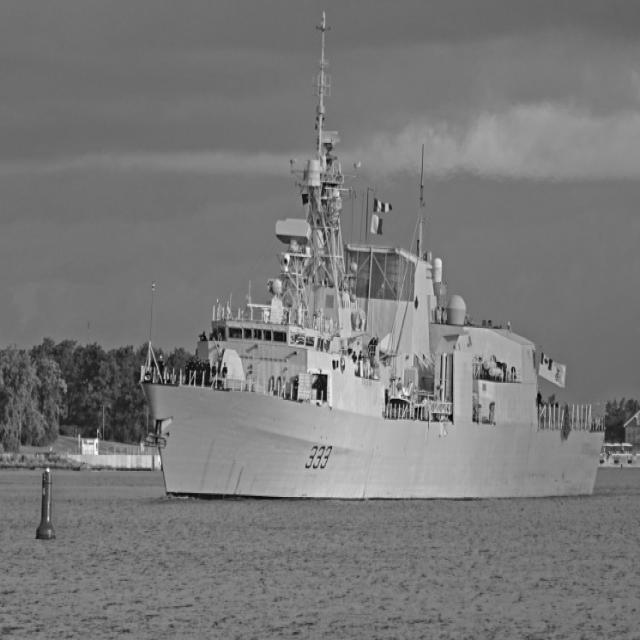Fragata: (136, 4, 606, 511)
